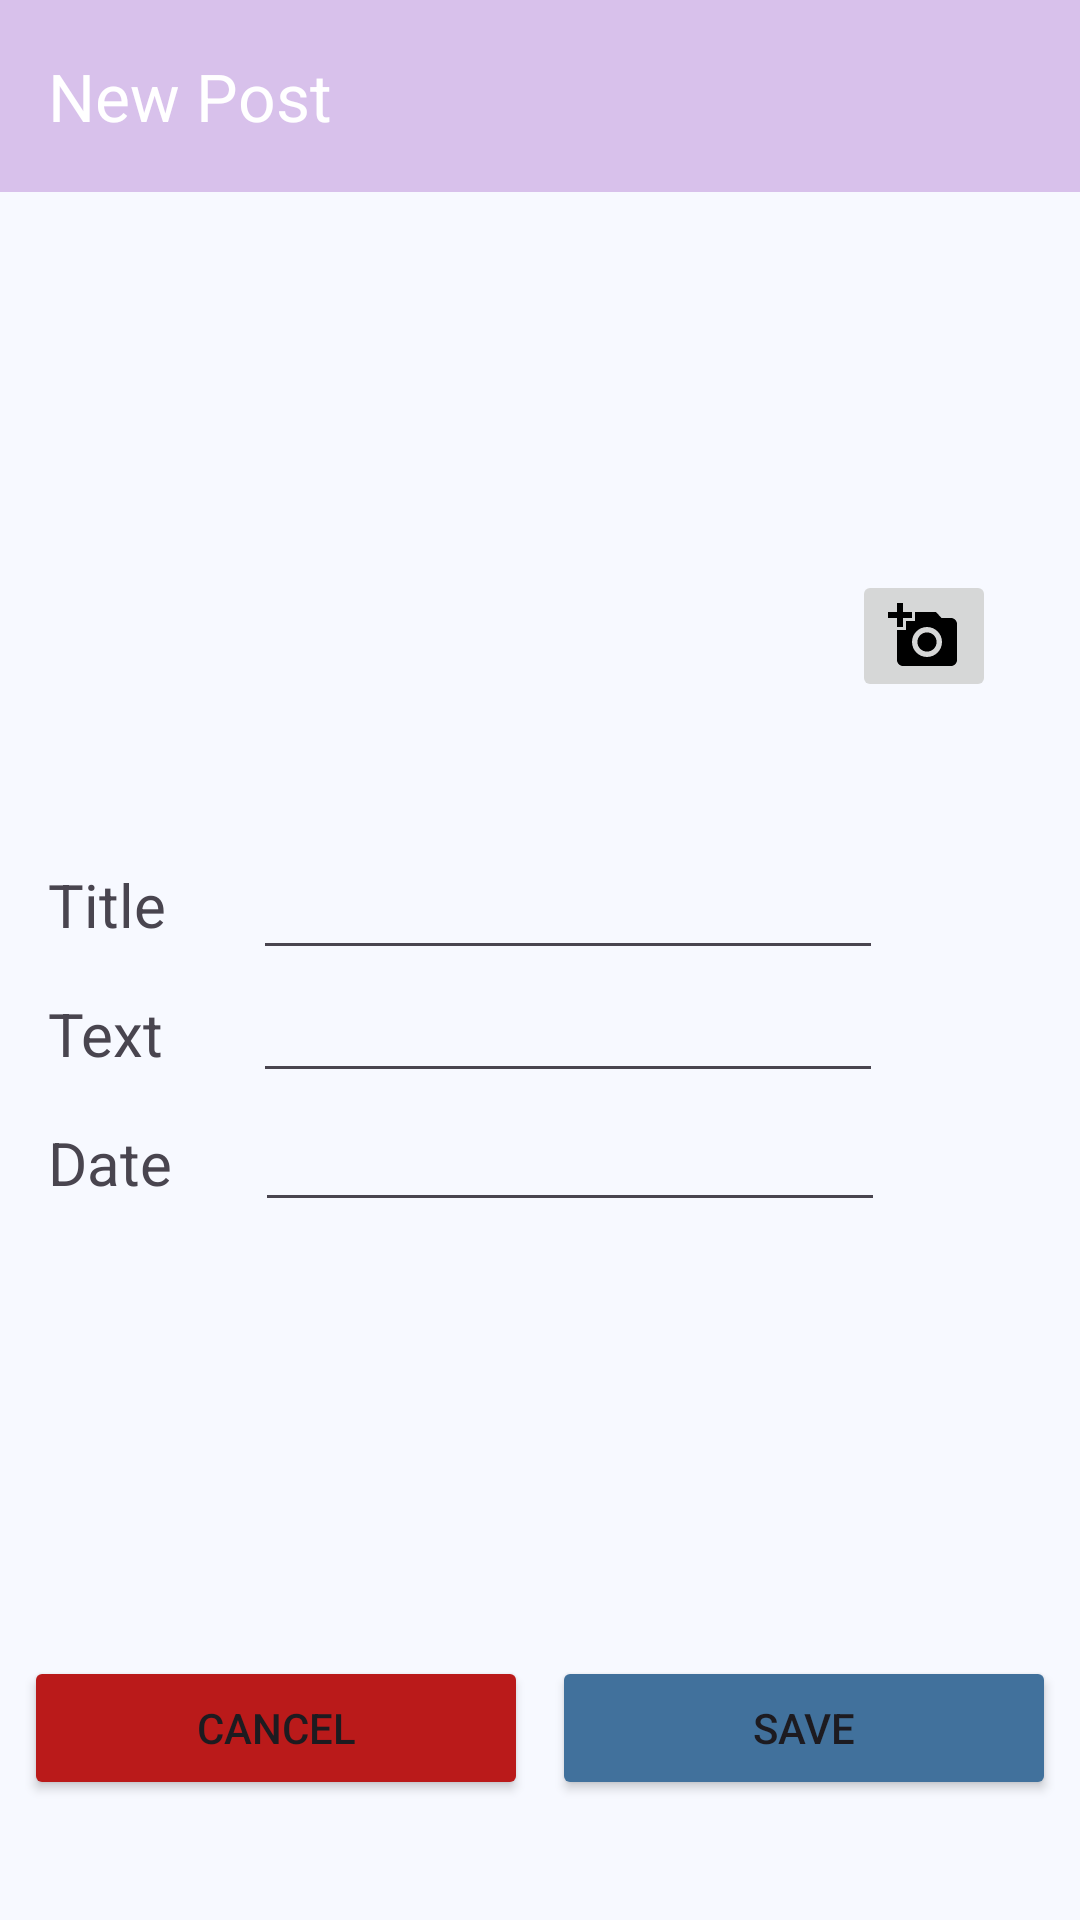

Named icons in this screenshot (1080px x 1920px) and their centers, [x,y]:
add photo: [924,636]
